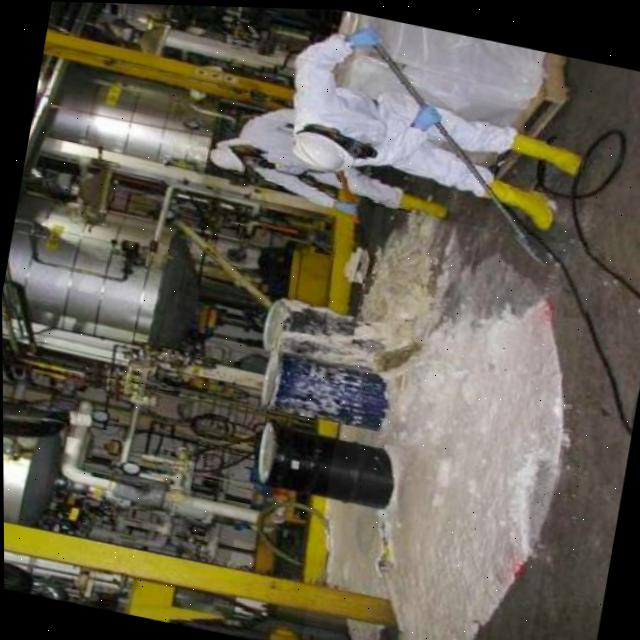spillage: (323, 213, 565, 640)
